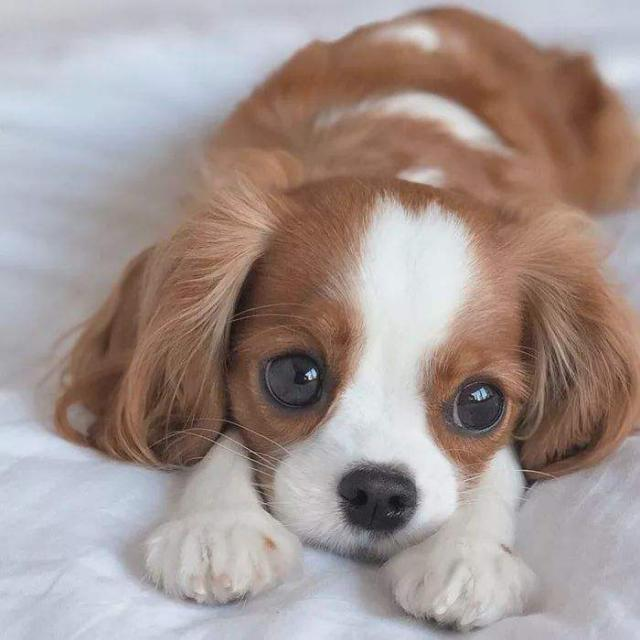eye: (257, 343, 333, 412), (442, 366, 509, 436)
